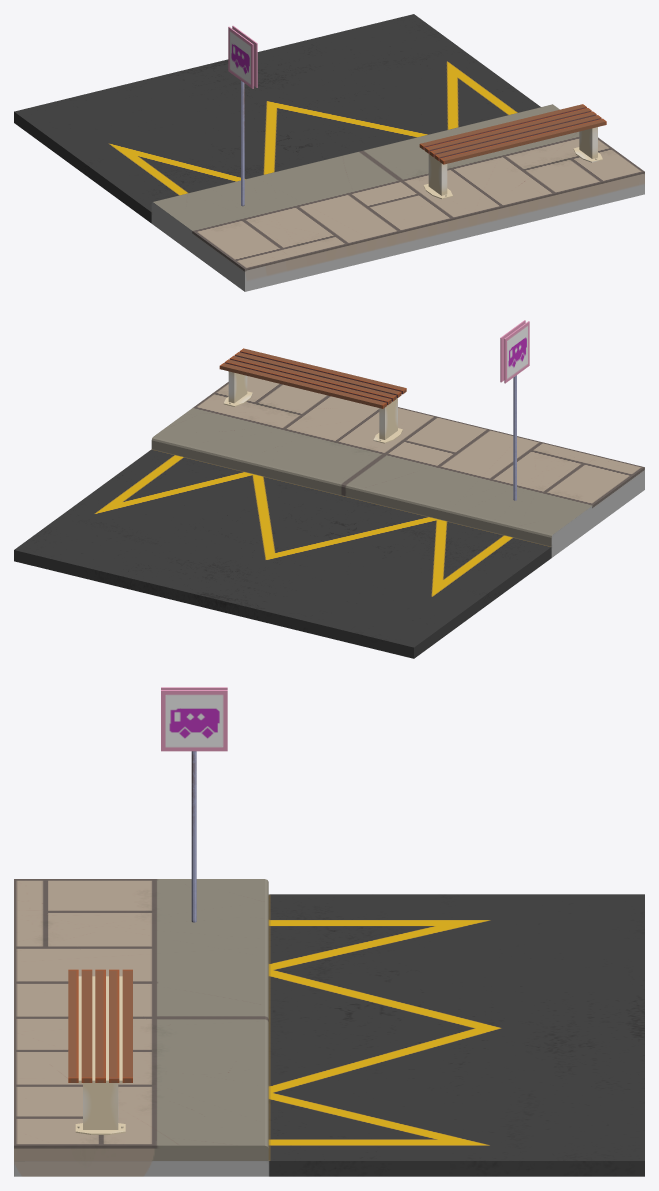
File: Pavement_Default_BusStop.fbx
3 renders of one model, top to bottom at view 1: azimuth 30°, elevation 25°; view 2: azimuth 150°, elevation 25°; view 3: azimuth 270°, elevation 25°, orthographic. The views are drawn at different scales.
Parts seen in each view (by area): view 1: Cube, Cube.021, Plane.001; view 2: Cube, Cube.021, Plane.001; view 3: Cube, Cube.021, Plane.001.
Boxes of the visible parts, box(x1,y1,x2,y2) form: Cube: box(14, 14, 644, 291); Cube.021: box(419, 104, 606, 199); Plane.001: box(228, 25, 257, 206); Cube: box(14, 376, 644, 658); Cube.021: box(219, 348, 406, 443); Plane.001: box(500, 320, 529, 500); Cube: box(14, 879, 644, 1176); Cube.021: box(68, 969, 132, 1134); Plane.001: box(161, 687, 227, 922).
Bounding box in the file's own units: 100 × 46.08 × 100.
Materials: 3 (3 with a texture image).
